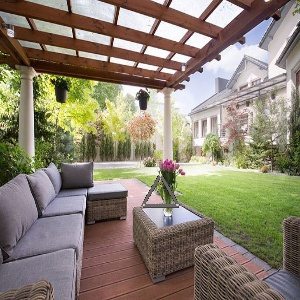triangle: (137, 171, 182, 209)
